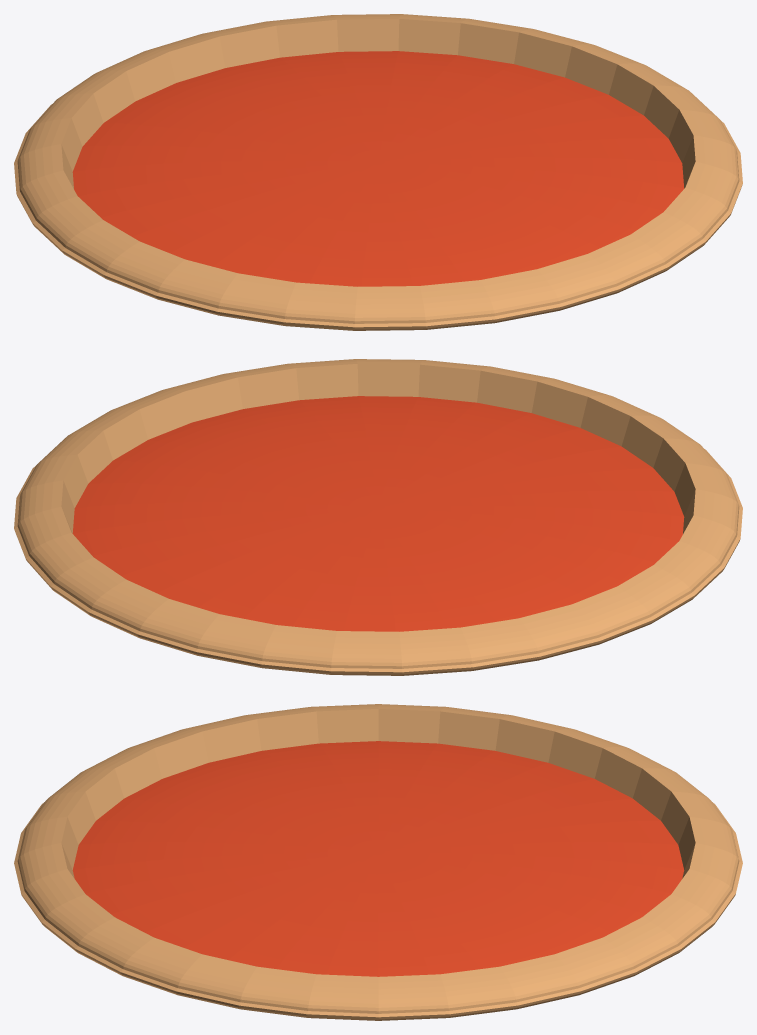
The model's file is circle-pizza.glb.
The picture shows the model from 3 angles, top to bottom: view 1: azimuth 30°, elevation 25°; view 2: azimuth 150°, elevation 25°; view 3: azimuth 270°, elevation 25°; orthographic projection.
Visible parts, largest first — view 1: Cylinder.001; view 2: Cylinder.001; view 3: Cylinder.001.
Boxes of the visible parts, x1,y1,x2,y2 form: Cylinder.001: (14,14,742,330); Cylinder.001: (14,359,742,675); Cylinder.001: (14,704,742,1020).
Bounding box in the file's own units: 6.23 × 0.5556 × 6.23.
